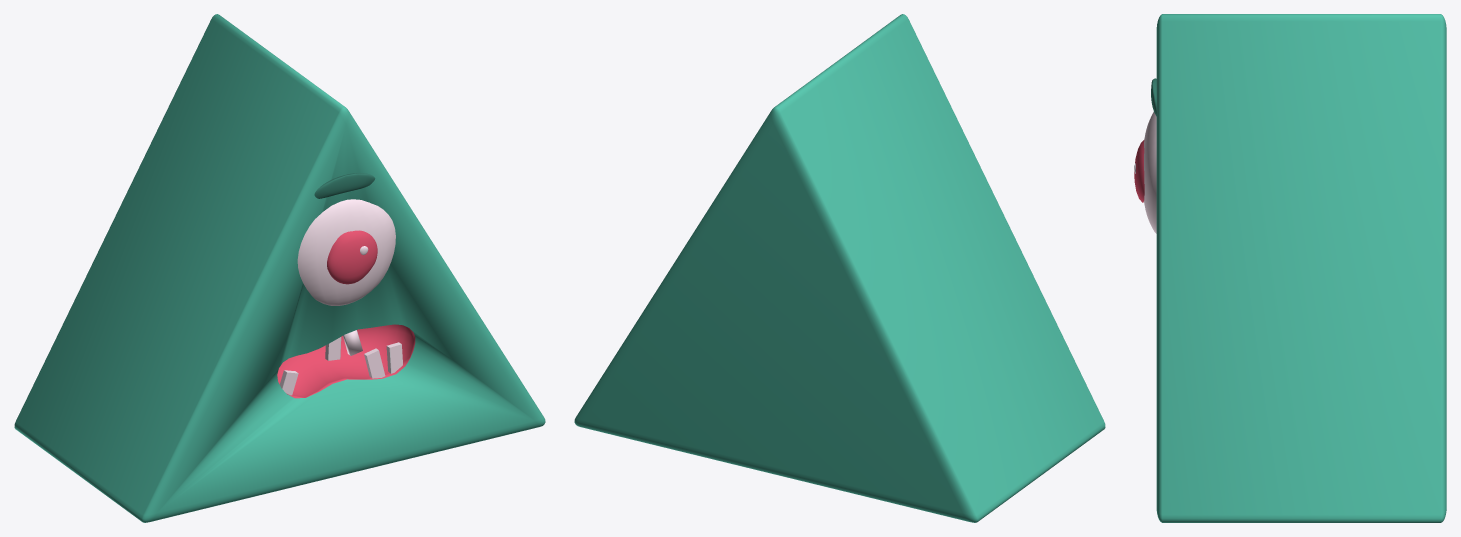
The model's file is GreenTriangleBaked.fbx.
3 renders of one model, left to right at view 1: azimuth 30°, elevation 25°; view 2: azimuth 150°, elevation 25°; view 3: azimuth 270°, elevation 25°, orthographic. The views are drawn at different scales.
Parts seen in each view (by area): view 1: Cylinder; view 2: Cylinder; view 3: Cylinder.
Boxes of the visible parts, left/top/right/bottom form: Cylinder: left=14, top=14, right=545, bottom=522; Cylinder: left=574, top=14, right=1105, bottom=522; Cylinder: left=1134, top=14, right=1446, bottom=522.
Bounding box in the file's own units: 170 × 148 × 104.
Materials: 1 (1 with a texture image).
